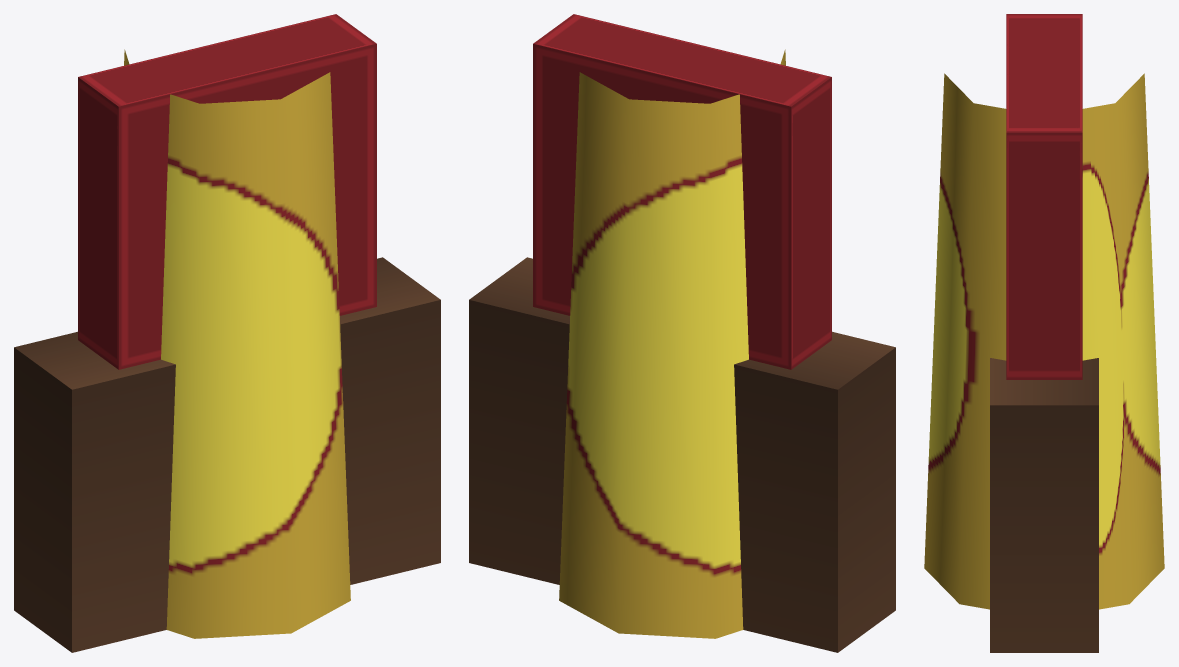
File: PRP_Bookshelf.glb
The picture shows the model from 3 angles, left to right: view 1: azimuth 30°, elevation 25°; view 2: azimuth 150°, elevation 25°; view 3: azimuth 270°, elevation 25°; orthographic projection. The views are drawn at different scales.
Visible parts, largest first — view 1: PRP_Bookshelf; view 2: PRP_Bookshelf; view 3: PRP_Bookshelf.
Boxes of the visible parts, x1,y1,x2,y2 form: PRP_Bookshelf: (14,14,440,652); PRP_Bookshelf: (469,14,895,652); PRP_Bookshelf: (924,14,1164,652).
Size of the model in its own units: 2.2 by 3 by 1.32.
1 material, 1 textured.
